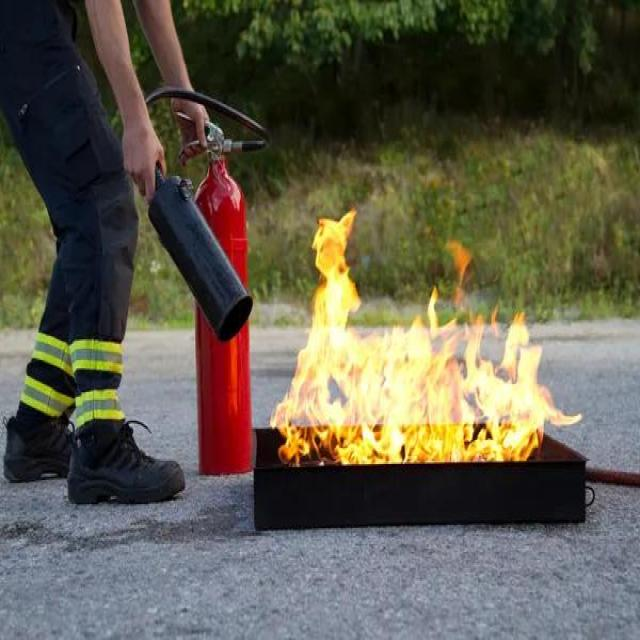fire_extinguisher: (112, 79, 274, 478)
